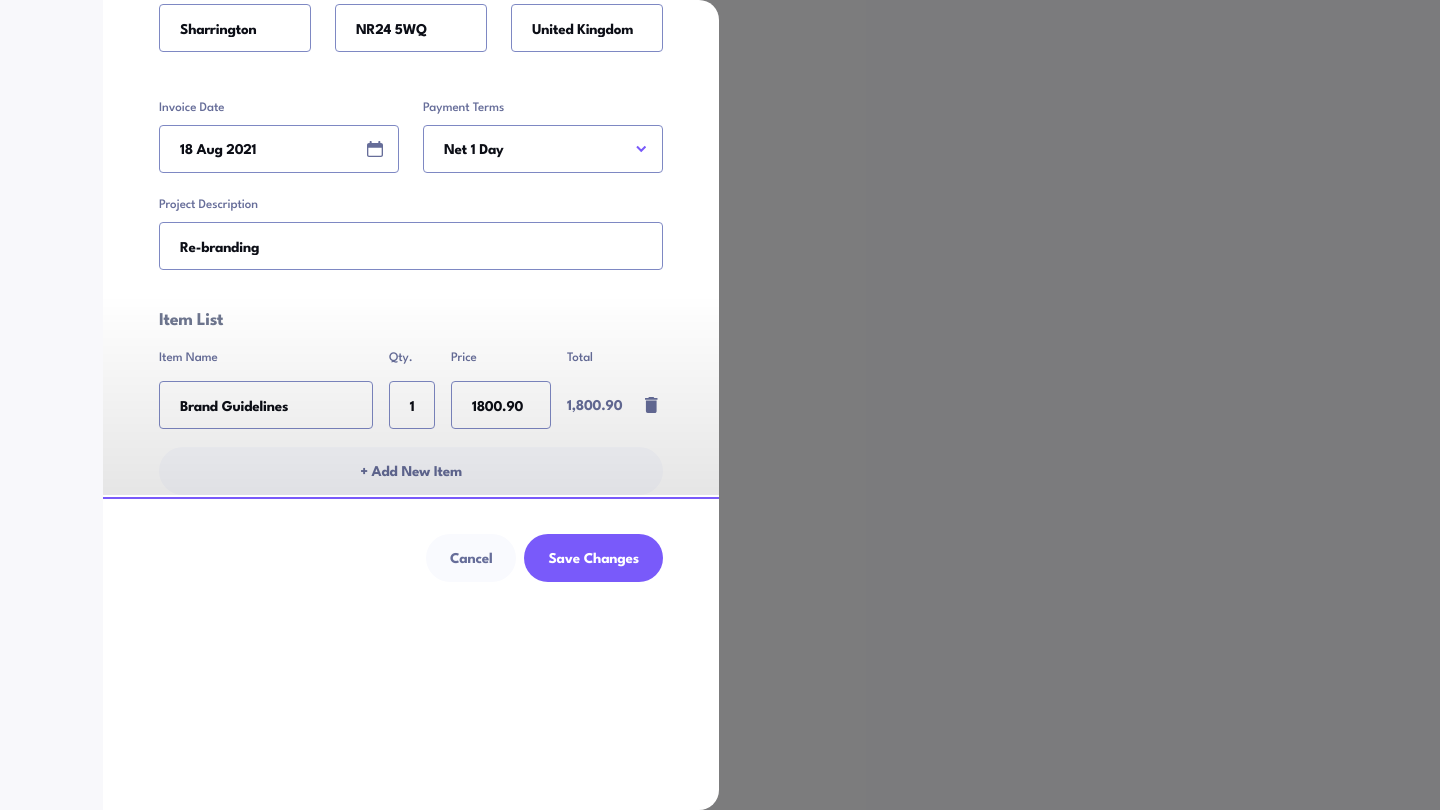
Scenario: rejecting malformed numbers › explains what a quantity and price must look like
(page scrolled)
Replace the text in the 6th field with "1.5" at x=412, y=405, box [389, 381, 435, 429]
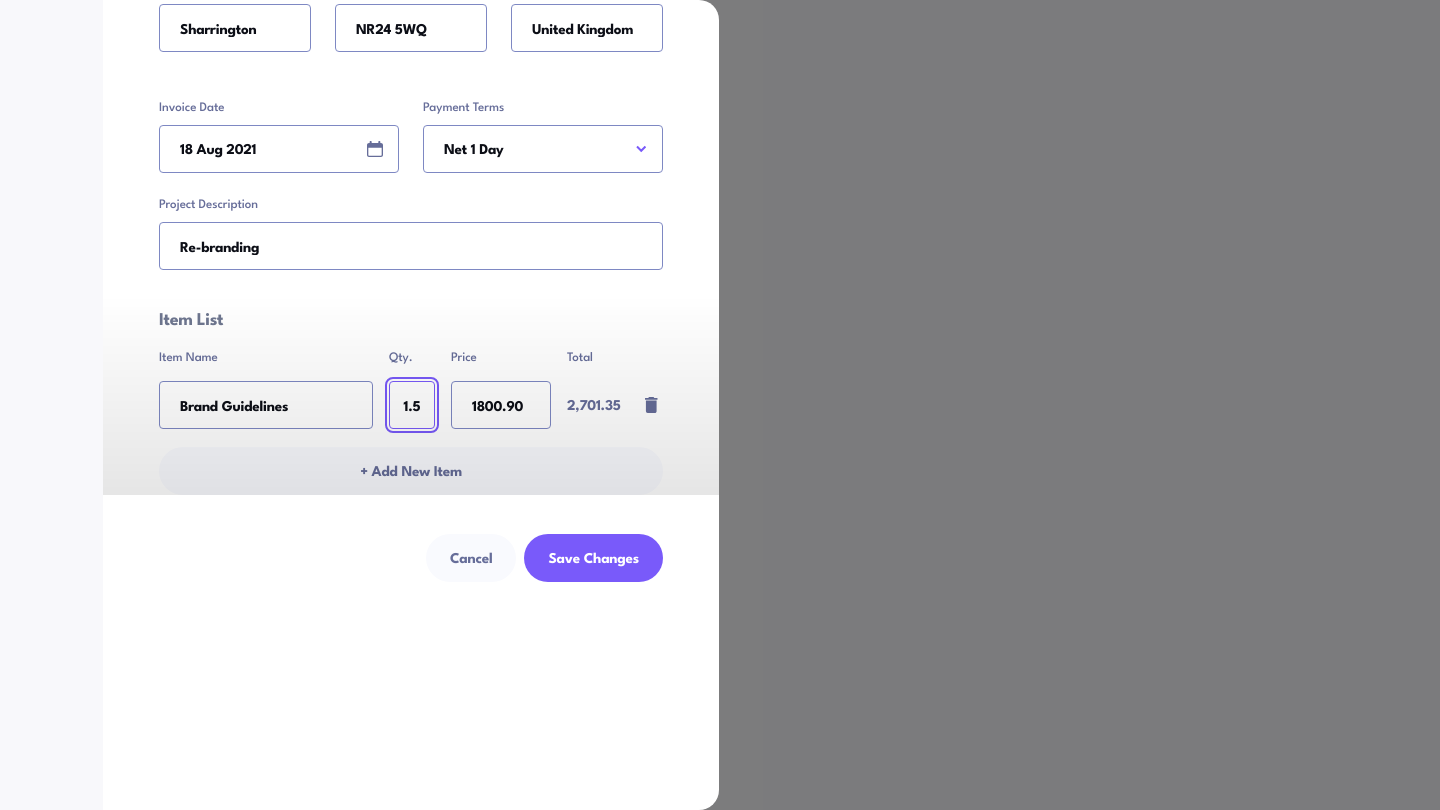
Click the button "Save Changes" at x=594, y=558, box [524, 534, 663, 582]
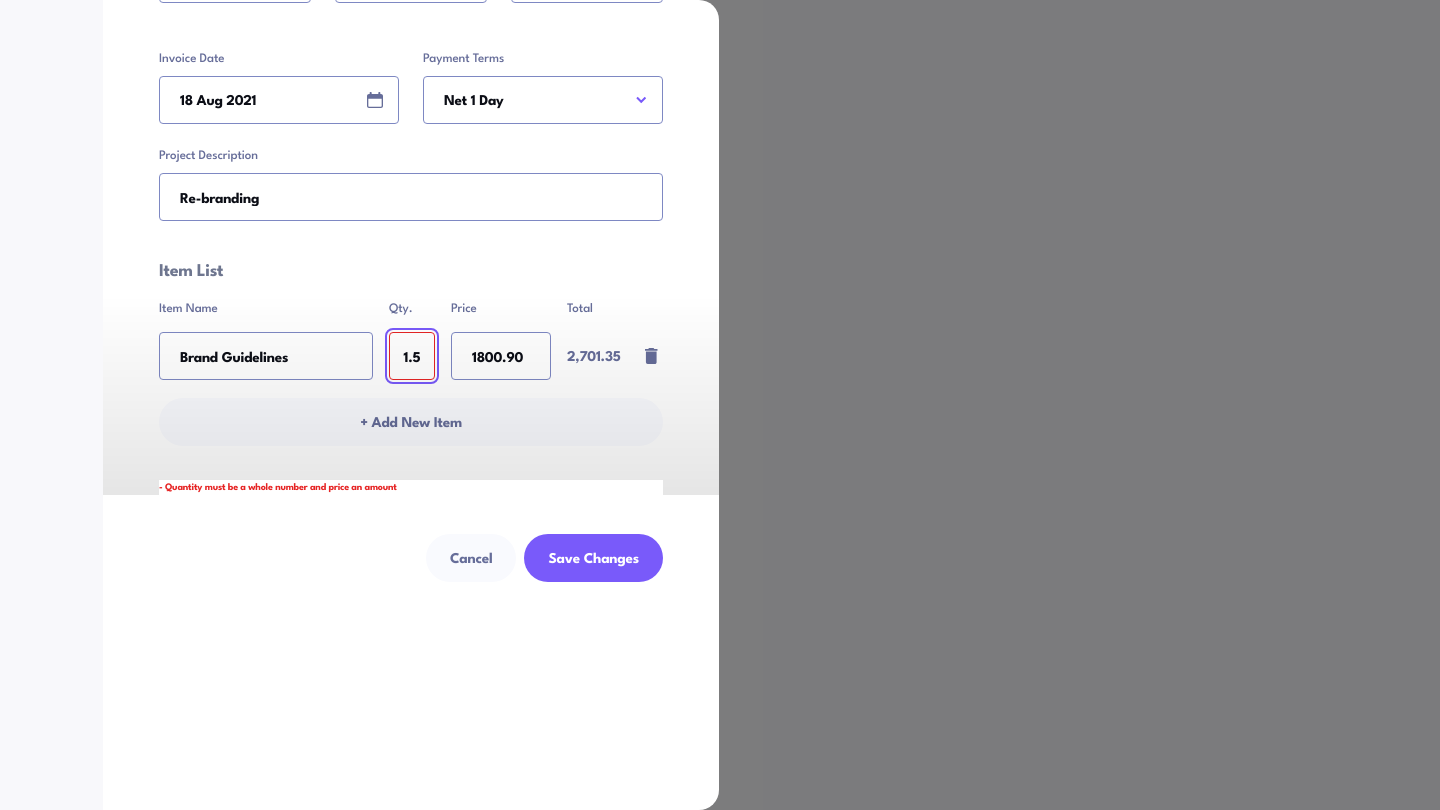
Result: the text "- Quantity must be a whole number and price an amount" is shown at [159, 483, 397, 492]
